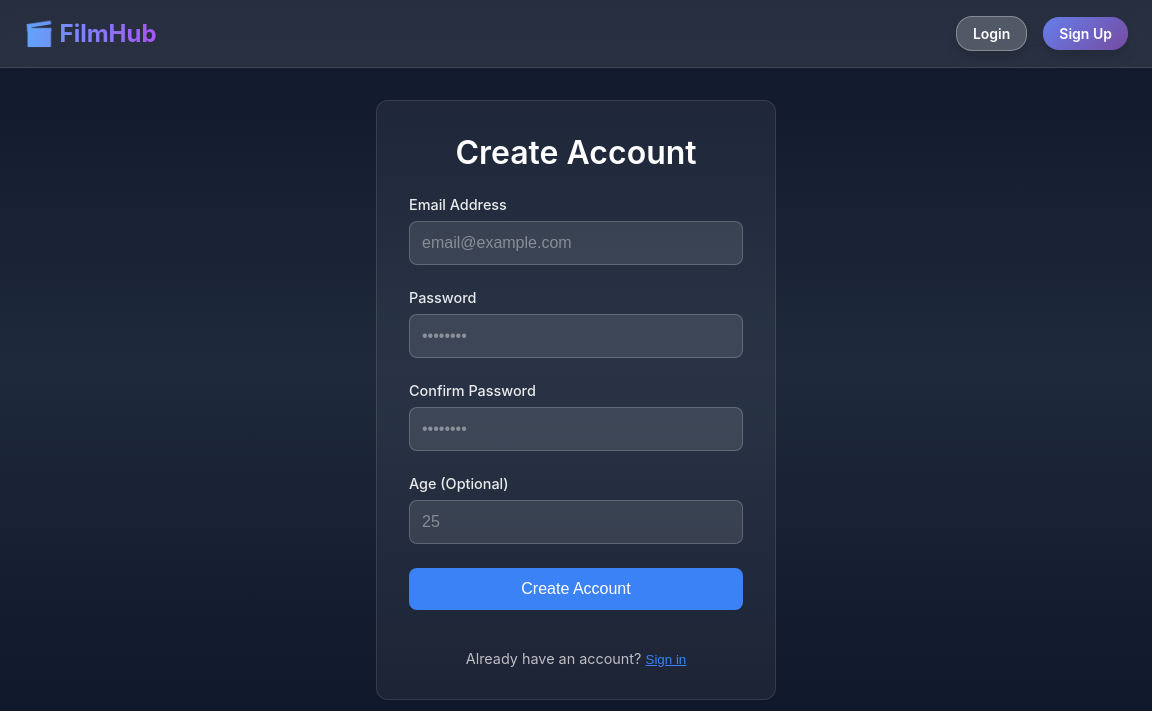
Test: RegisterPage › shows password strength validation error
The image size is (1152, 711).
Type "weak" into the password field labelled "Password".
click(576, 336); type("weak")  # box [409, 314, 743, 358]
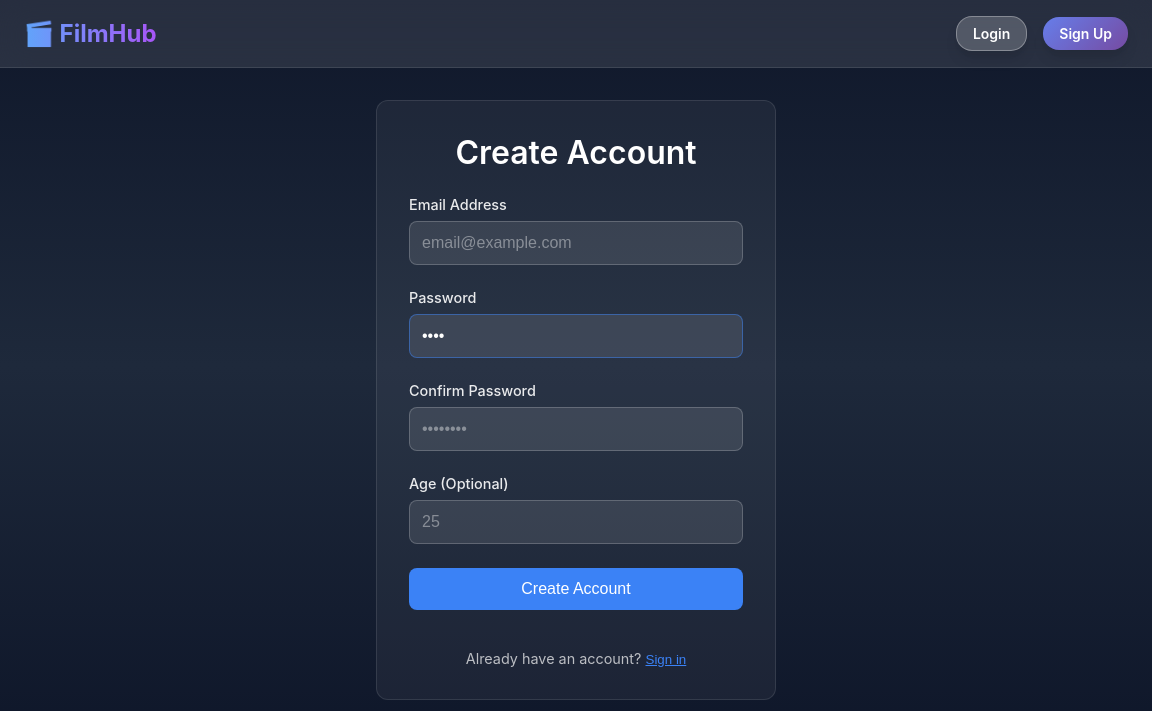
Click the button "Create Account".
click(576, 589)  # box [409, 568, 743, 610]
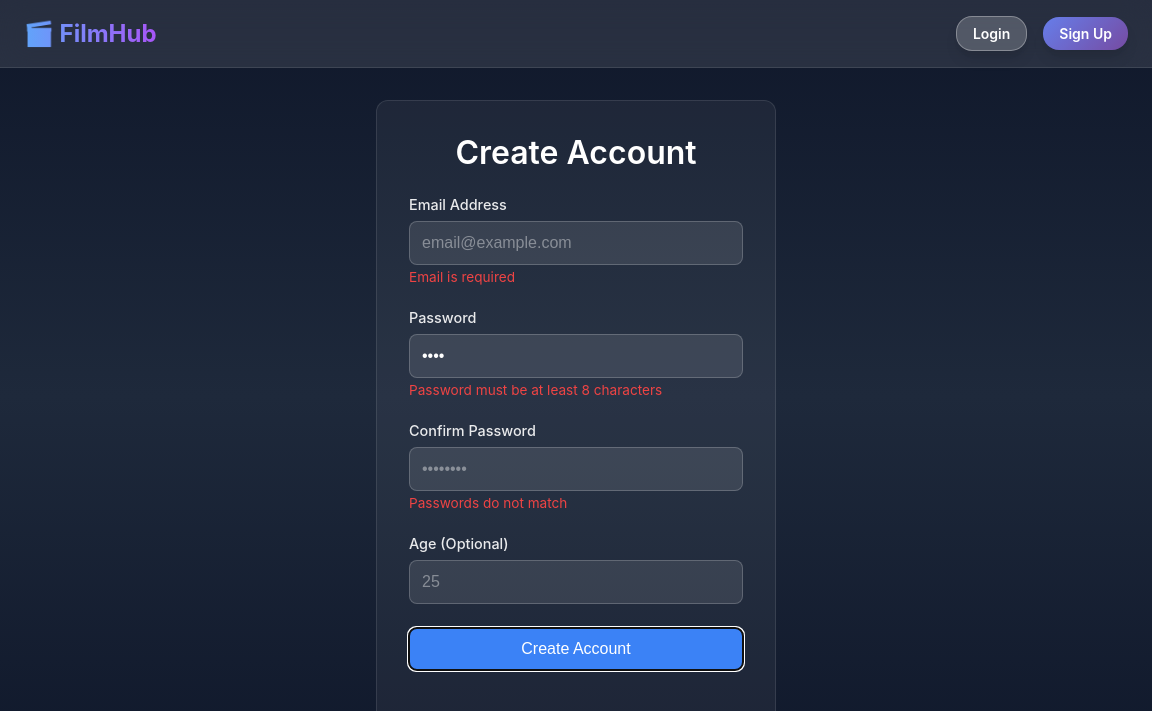
Now the text "Password must be at least 8 characters" is shown, box [409, 382, 662, 398]
